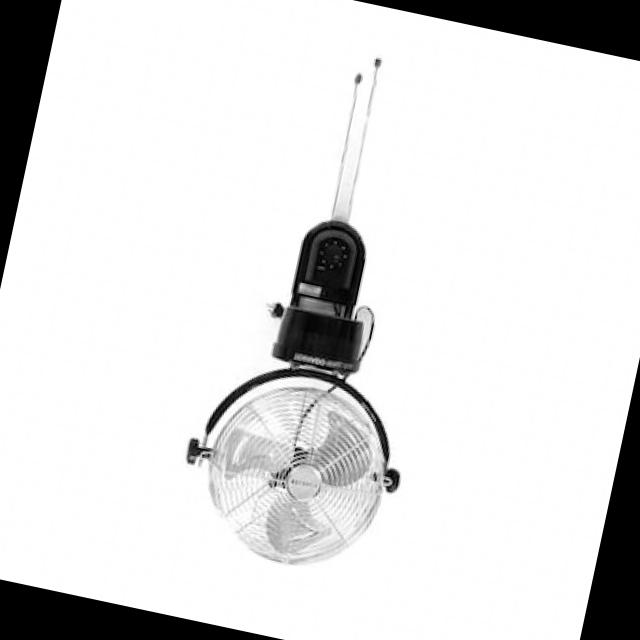fan: (94, 14, 522, 592)
